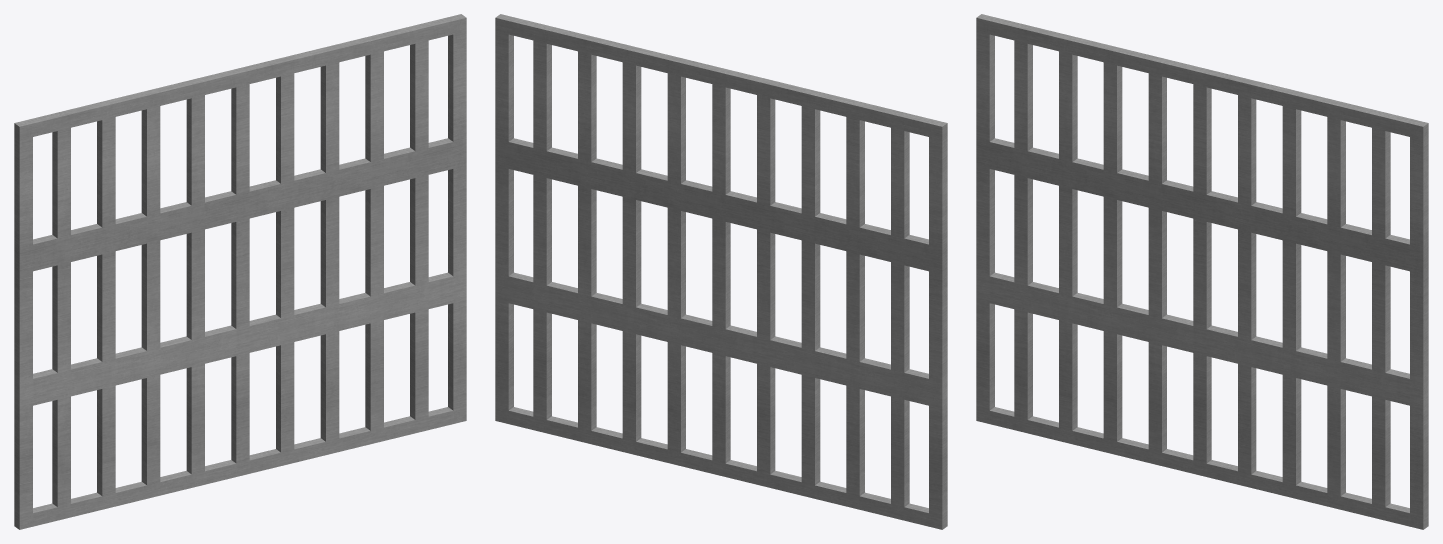
Rendered from GradeAgua.dae.
3 renders of one model, left to right at view 1: azimuth 30°, elevation 25°; view 2: azimuth 150°, elevation 25°; view 3: azimuth 330°, elevation 25°, orthographic.
Visible parts, largest first — view 1: instance_0 (×13); view 2: instance_0 (×13); view 3: instance_0 (×13).
Part boxes in pixels (box(x1,y1,x2,y2)): instance_0 (×13): box(14, 14, 466, 529); instance_0 (×13): box(495, 14, 947, 529); instance_0 (×13): box(976, 14, 1428, 529).
Bounding box in the file's own units: 137 × 2.76 × 118.
1 material, 1 textured.
